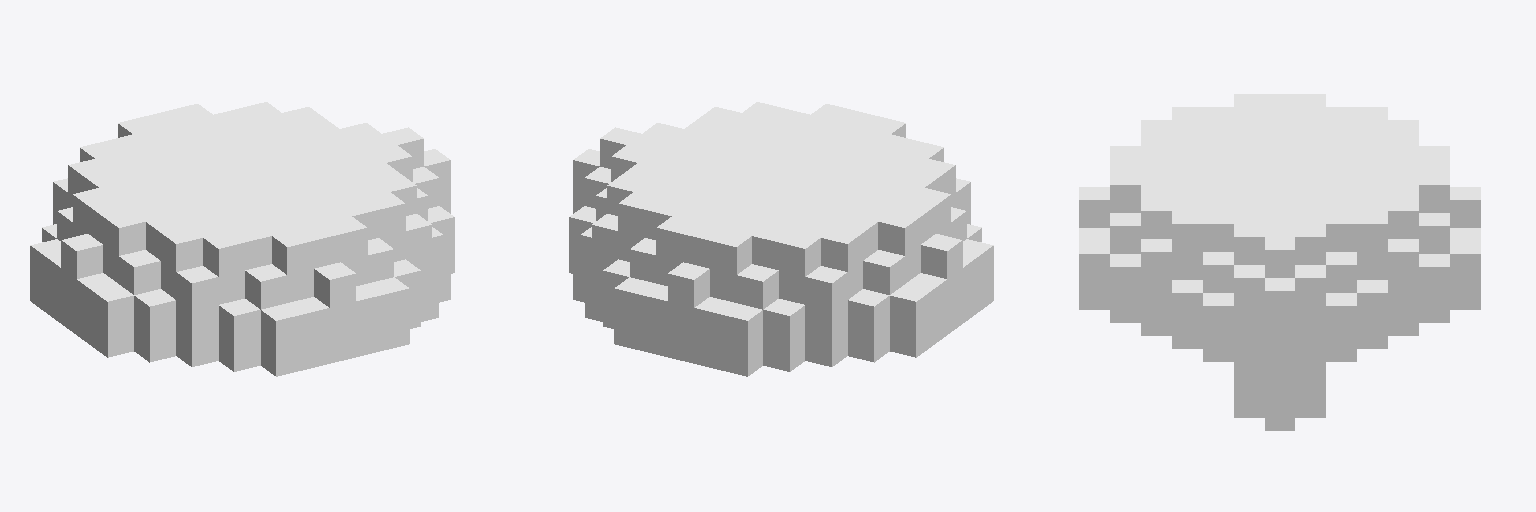
The model's file is kompasv3-0.obj.
3 views of the same model, side by side, from view 1: azimuth 30°, elevation 25°; view 2: azimuth 150°, elevation 25°; view 3: azimuth 270°, elevation 25° (orthographic).
Visible parts, largest first — view 1: object 1; view 2: object 1; view 3: object 1.
Boxes of the visible parts, x1,y1,x2,y2 form: object 1: [30, 102, 454, 376]; object 1: [569, 102, 993, 376]; object 1: [1079, 94, 1480, 430].
Bounding box in the file's own units: 1.4 × 0.6 × 1.3.